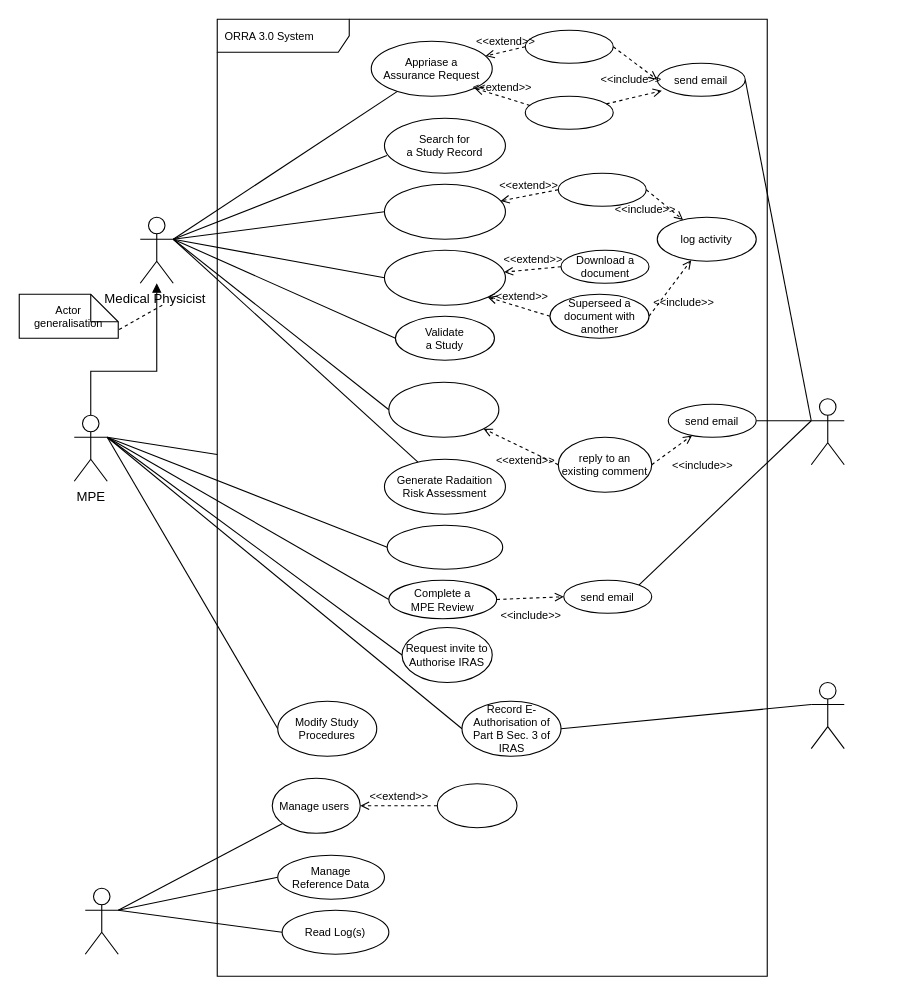
The diagram is 901 pixels wide and 997 high, and some of its shapes have lost their labels. The centre of each missing label's shape, as x and y in pixels:
<<email system>>: [827,431]
<<IRAS>>: [827,715]
Accept a Request: [568,112]
Authorise Radiation Risk Assessment: [444,546]
Comment against study record: [443,409]
Edit a Study Record: [601,189]
Manage user roles: [476,805]
Reject a Request: [568,46]
System Admin: [101,920]
View a Study Record: [444,211]
View a Study's Documents: [444,277]
